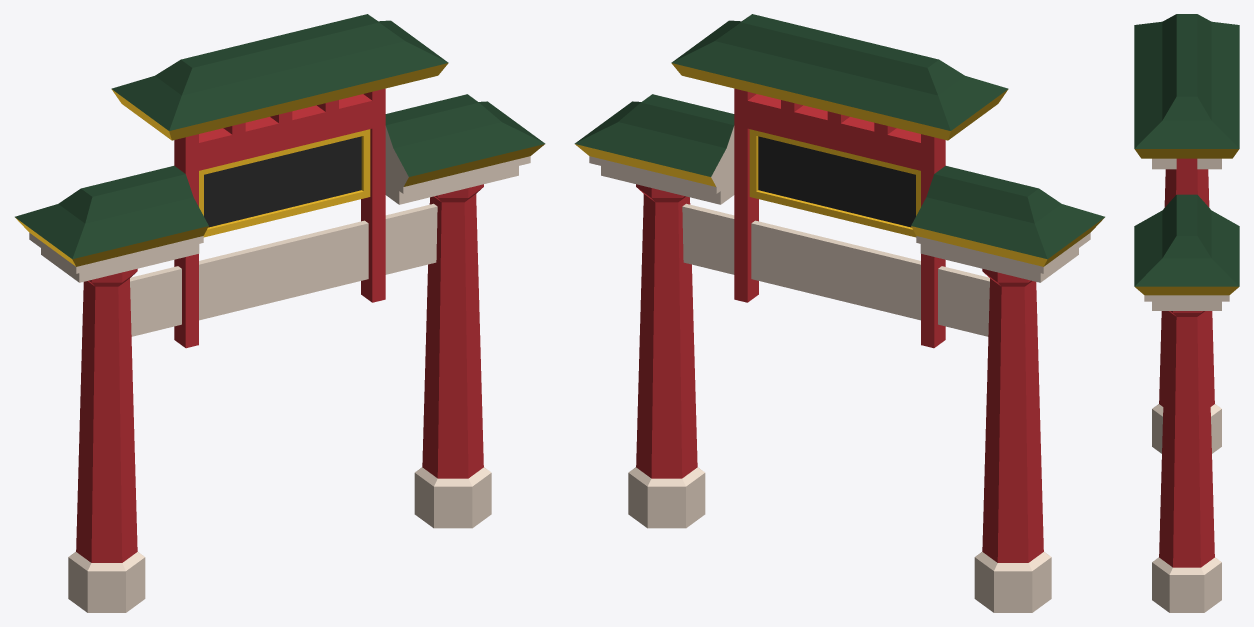
Rendered from buildings-gate-china.glb.
3 views of the same model, side by side, from view 1: azimuth 30°, elevation 25°; view 2: azimuth 150°, elevation 25°; view 3: azimuth 270°, elevation 25° (orthographic). The views are drawn at different scales.
Visible parts, largest first — view 1: gate-china; view 2: gate-china; view 3: gate-china.
Part boxes in pixels (<box>): gate-china: <box>15,14,545,612</box>; gate-china: <box>574,14,1104,612</box>; gate-china: <box>1134,14,1239,612</box>.
Size of the model in its own units: 7.11 by 7.4 by 1.51.
